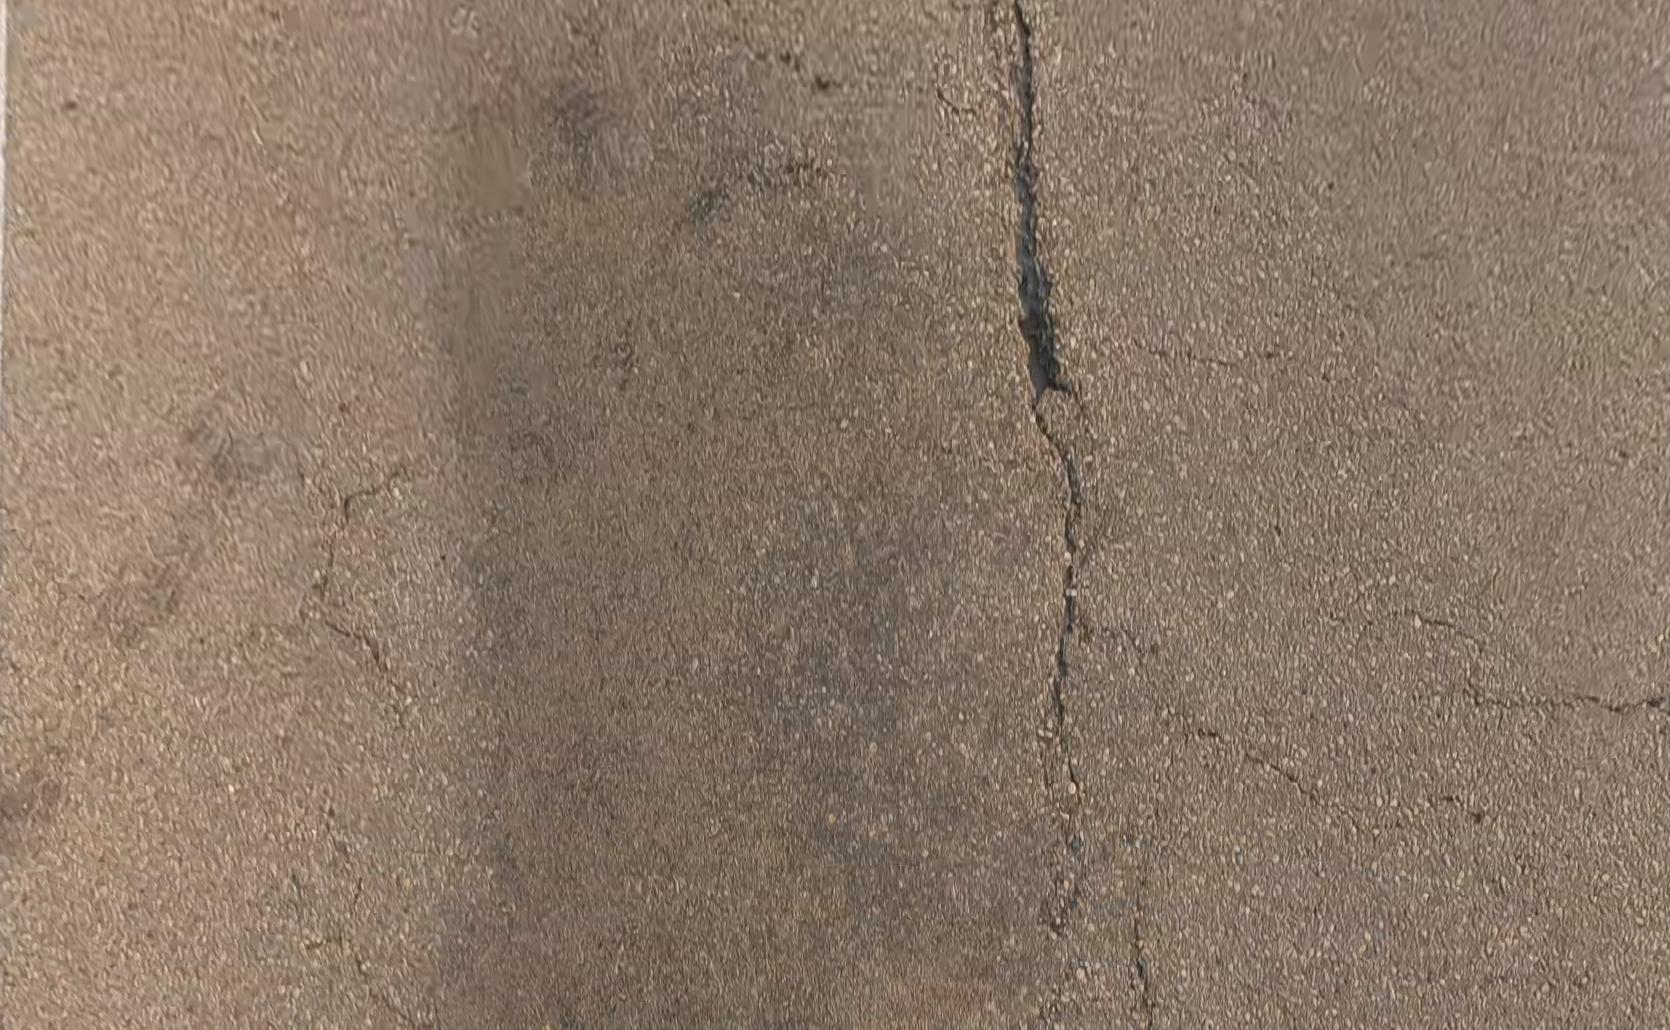pothole: (1015, 0, 1071, 401)
